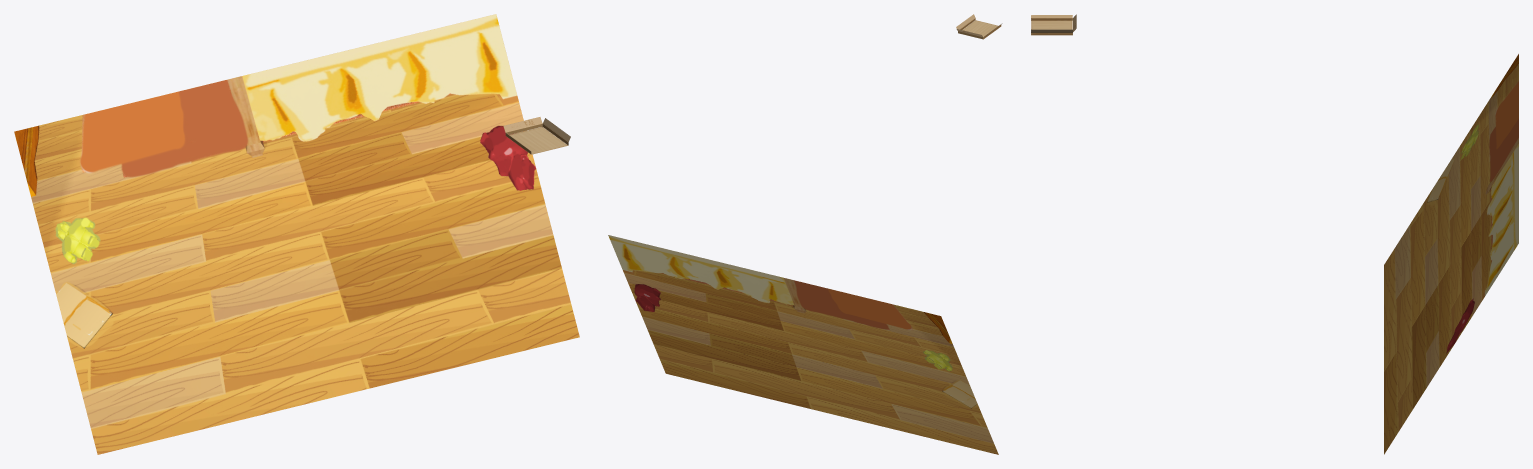
File: SceneComposition.FBX
3 views of the same model, side by side, from view 1: azimuth 30°, elevation 25°; view 2: azimuth 150°, elevation 25°; view 3: azimuth 270°, elevation 25° (orthographic). The views are drawn at different scales.
Parts seen in each view (by area): view 1: ID1076, ID1078; view 2: ID1076, ID1078; view 3: ID1076, ID1078.
Boxes of the visible parts, bbox=[...] form: ID1076: bbox=[14, 14, 579, 454]; ID1078: bbox=[503, 117, 570, 154]; ID1076: bbox=[608, 235, 998, 454]; ID1078: bbox=[956, 14, 1002, 39]; ID1076: bbox=[1384, 54, 1518, 454]; ID1078: bbox=[1031, 14, 1076, 35].
Size of the model in its own units: 288 by 238 by 313.
2 materials, 2 textured.
